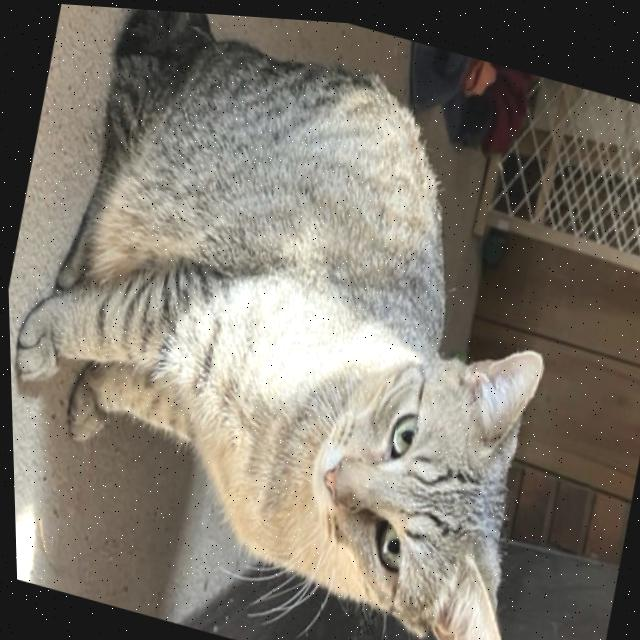American Bobtail: (0, 0, 630, 640)
